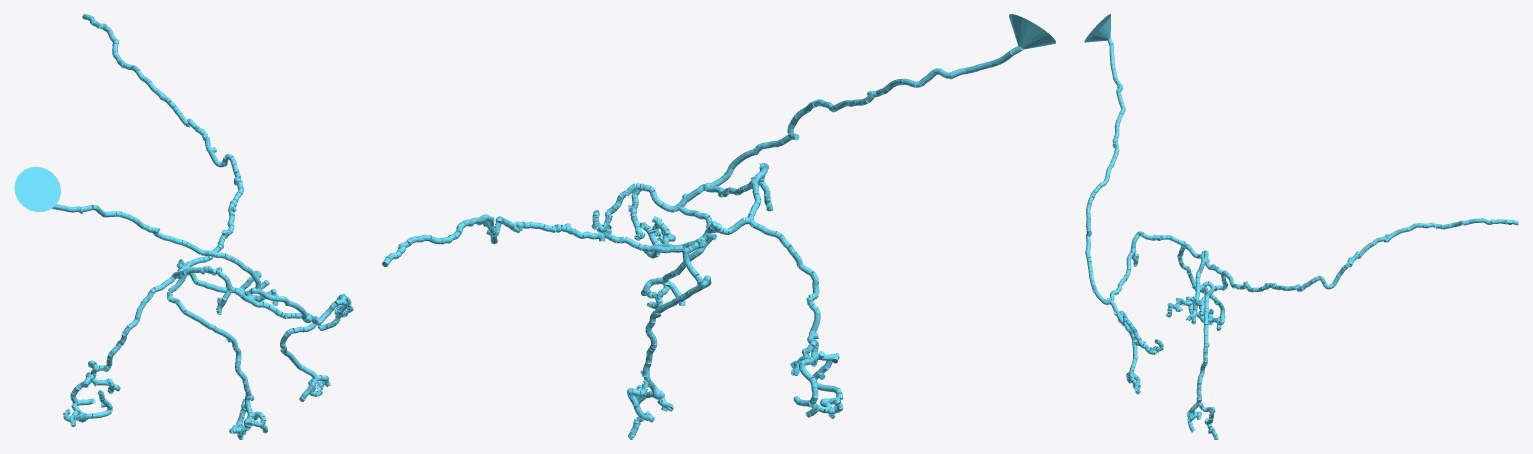
The model's file is VFB_001000q6.glb.
3 renders of one model, left to right at view 1: azimuth 30°, elevation 25°; view 2: azimuth 150°, elevation 25°; view 3: azimuth 270°, elevation 25°, orthographic. The views are drawn at different scales.
Visible parts, largest first — view 1: VFB_001000q6; view 2: VFB_001000q6; view 3: VFB_001000q6.
Boxes of the visible parts, x1,y1,x2,y2 form: VFB_001000q6: (14, 14, 353, 439); VFB_001000q6: (382, 14, 1055, 439); VFB_001000q6: (1084, 14, 1518, 439).
Size of the model in its own units: 0.0308 by 0.0312 by 0.0389.
